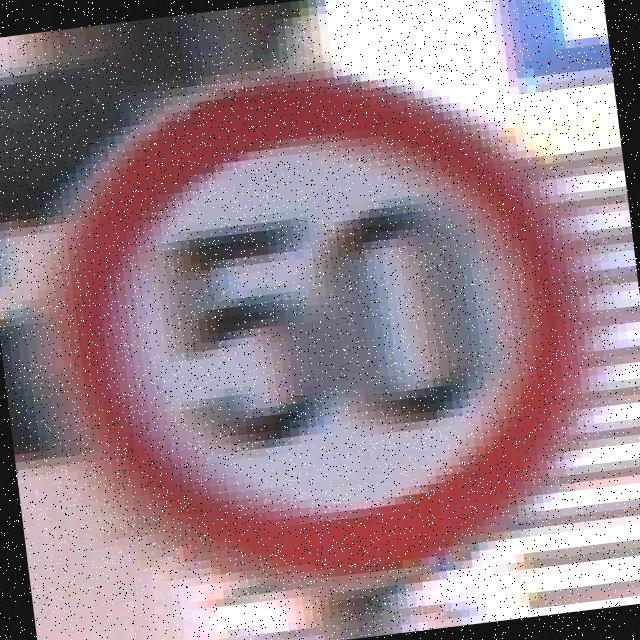Ograniczenie predkosci do 50: (44, 47, 594, 597)
